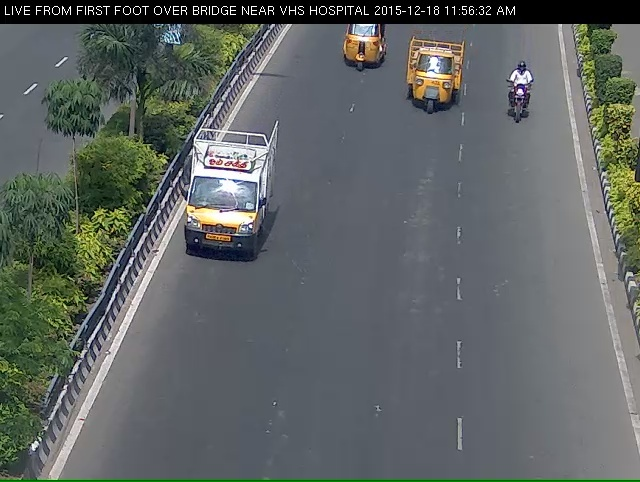Auto: (176, 131, 257, 278), (401, 39, 459, 124), (336, 23, 385, 88)
Person: (501, 56, 531, 138)
